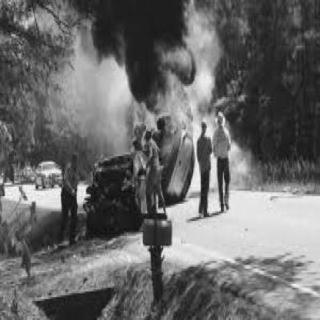Smoke: (77, 0, 204, 74)
